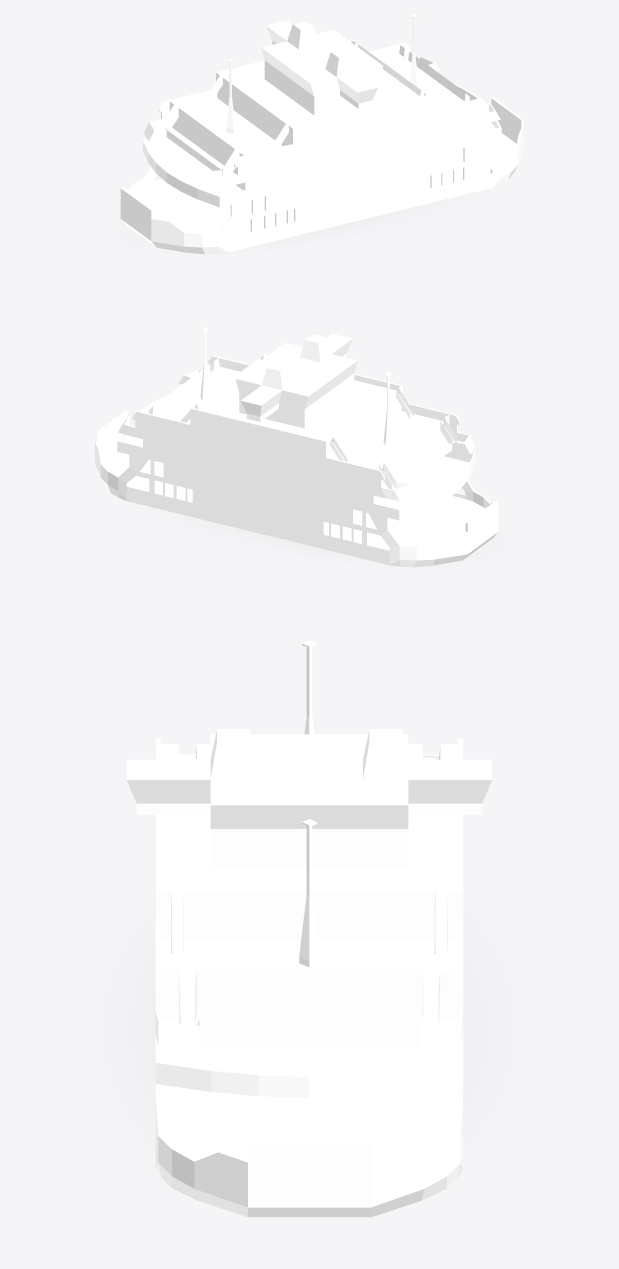
Rendered from AIS_Ferry-A_001.glb.
The picture shows the model from 3 angles, top to bottom: view 1: azimuth 30°, elevation 25°; view 2: azimuth 150°, elevation 25°; view 3: azimuth 270°, elevation 25°; orthographic projection. The views are drawn at different scales.
Parts seen in each view (by area): view 1: AIS_Ferry-A.002, SurfaceGraphic_whiteGlow.008; view 2: AIS_Ferry-A.002, SurfaceGraphic_whiteGlow.008; view 3: AIS_Ferry-A.002, SurfaceGraphic_whiteGlow.008.
Boxes of the visible parts, <box> form: AIS_Ferry-A.002: <box>120,14,523,254</box>; SurfaceGraphic_whiteGlow.008: <box>140,201,440,246</box>; AIS_Ferry-A.002: <box>95,327,498,567</box>; SurfaceGraphic_whiteGlow.008: <box>178,514,478,558</box>; AIS_Ferry-A.002: <box>126,640,492,1217</box>; SurfaceGraphic_whiteGlow.008: <box>123,937,494,1120</box>.
Bounding box in the file's own units: 77.62 × 24.94 × 36.97.
2 materials, 1 textured.
